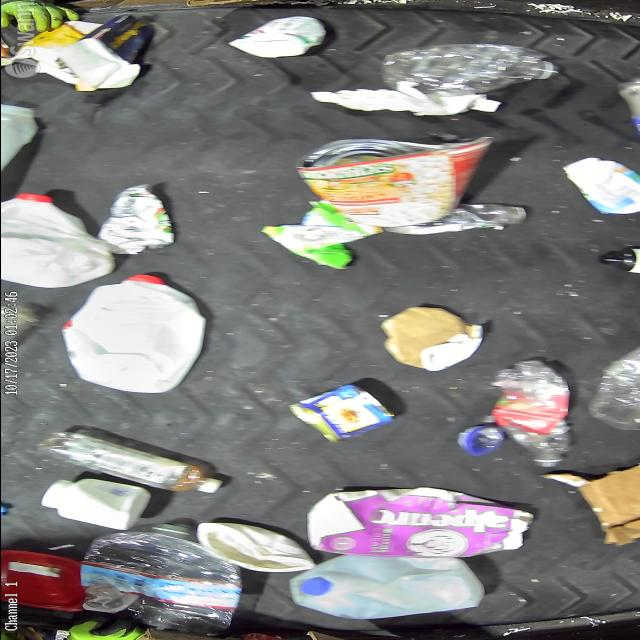can: (296, 137, 478, 225), (288, 384, 392, 440), (100, 184, 174, 253)
milk_jug: (290, 552, 490, 620), (0, 195, 115, 289)
non_white_jug: (64, 273, 200, 395), (308, 487, 532, 559)
plastic_bottle: (81, 528, 241, 632), (41, 431, 223, 494), (380, 44, 554, 98), (490, 360, 574, 466), (587, 340, 640, 430)
